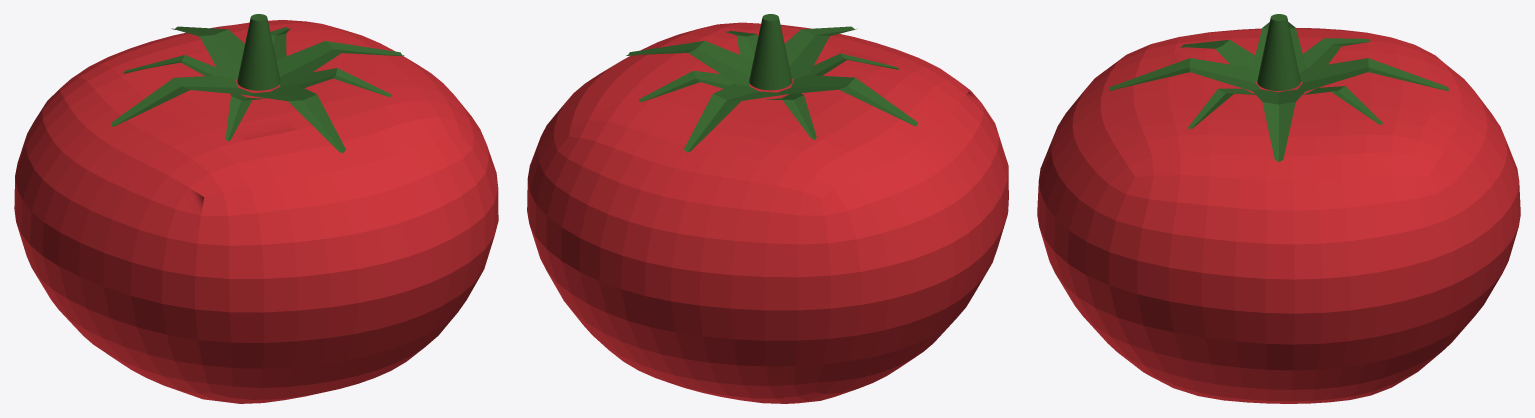
Rendered from помидор.fbx.
3 renders of one model, left to right at view 1: azimuth 30°, elevation 25°; view 2: azimuth 150°, elevation 25°; view 3: azimuth 270°, elevation 25°, orthographic.
Visible parts, largest first — view 1: Цилиндр; view 2: Цилиндр; view 3: Цилиндр.
Part boxes in pixels (x1,y1,x2,y2): Цилиндр: (14,14,498,403); Цилиндр: (527,14,1008,403); Цилиндр: (1037,14,1520,403).
Size of the model in its own units: 414 by 325 by 414.
